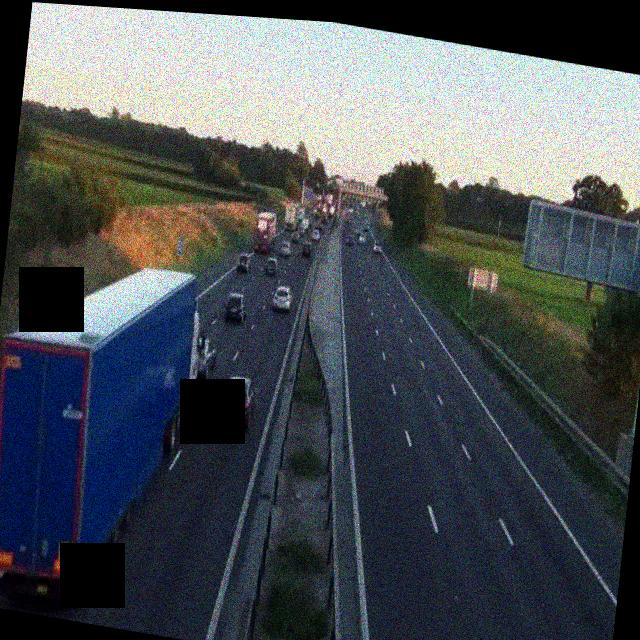car: (218, 374, 257, 431), (224, 290, 247, 324), (270, 284, 292, 313), (235, 251, 251, 271), (277, 240, 291, 258), (264, 256, 278, 274), (300, 240, 312, 258), (312, 223, 322, 240), (372, 239, 382, 254), (346, 231, 354, 246)
truck: (0, 241, 220, 626), (252, 207, 276, 253), (280, 198, 302, 235)
